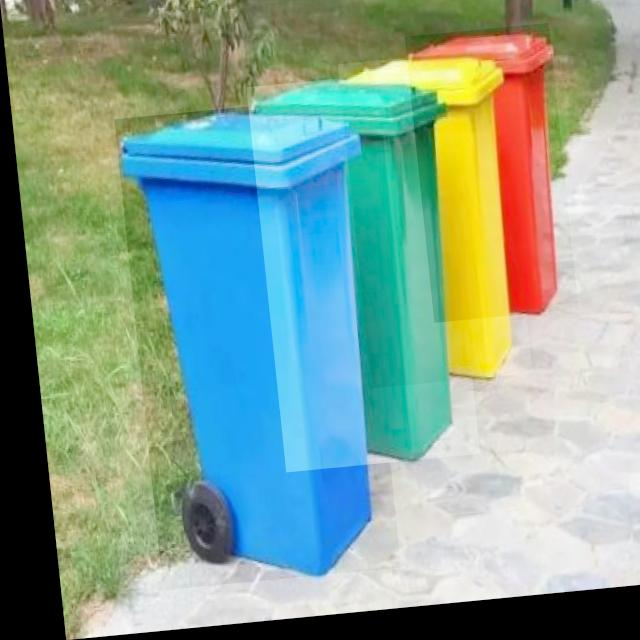garbage_bin: (112, 103, 388, 592), (244, 77, 469, 477), (336, 59, 523, 396), (403, 34, 571, 331)
